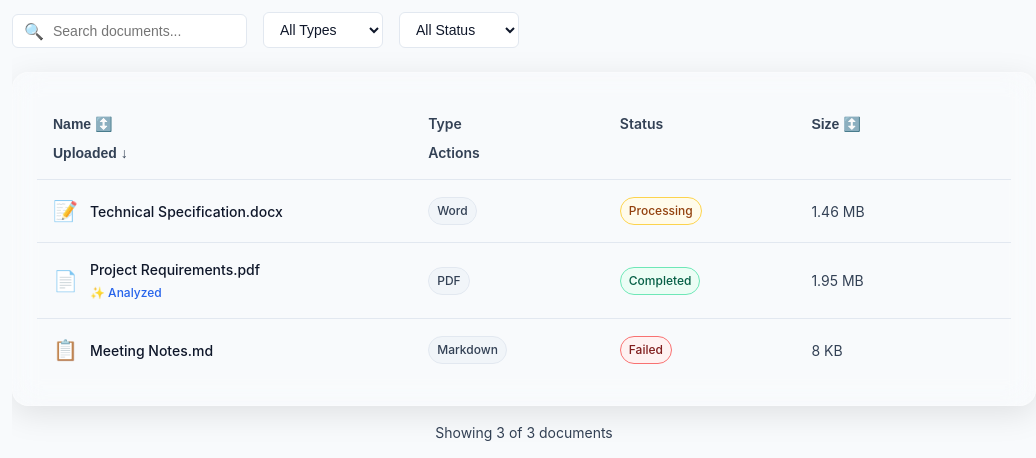
DocumentList › handles type filtering correctly
This screenshot has width=1036, height=458.
Select "PDF" in the 1st dropdown showing "All Types" at (323, 30), box [263,12,383,48]
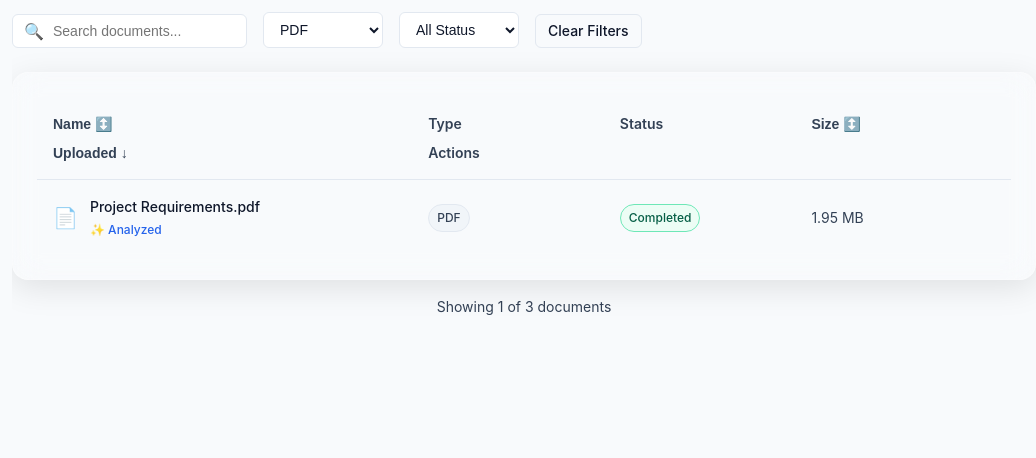
Expected: the text "Technical Specification.docx" is gone
Expected: the text "Meeting Notes.md" is gone
Expected: the text "Showing 1 of 3 documents" is shown, [437,298,611,315]
